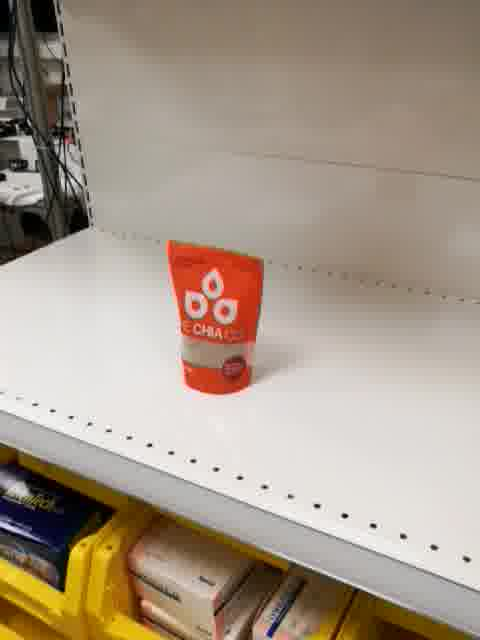whitechia: (165, 234, 267, 397)
